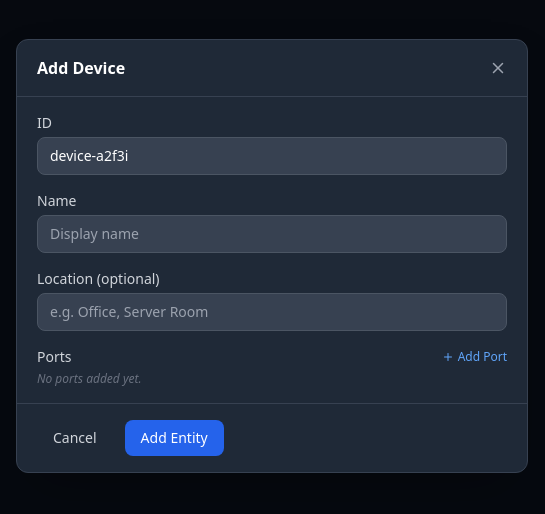
EntityForm — new port ID auto-increment › assigns id "1" when the entity has no ports
The width and height of the screenshot is (545, 514).
Click the button "Add Port". click: (474, 357)
box: x1=442 y1=349 x2=507 y2=365
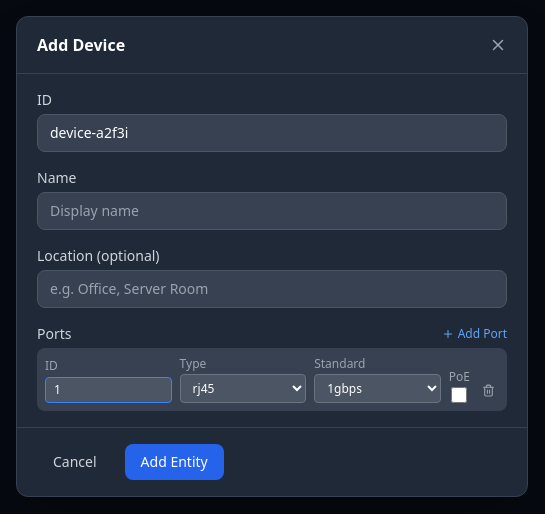
Expected: the field with placeholder "port-id" in the row of "PoE" holds "1", x1=45 y1=376 x2=172 y2=402
